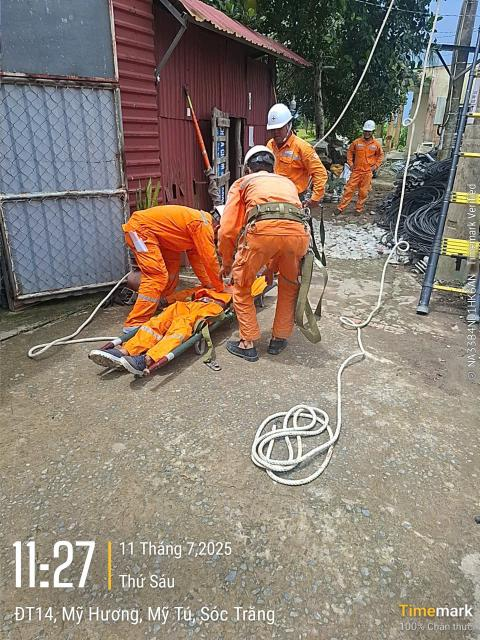harness: (238, 198, 316, 227), (293, 188, 321, 204)
helmet: (237, 141, 286, 175), (259, 100, 301, 136), (212, 201, 237, 226), (362, 120, 378, 134)
shoes: (222, 334, 258, 366), (121, 347, 156, 378), (93, 347, 128, 373), (260, 330, 292, 356), (330, 207, 343, 218), (350, 210, 363, 218)
